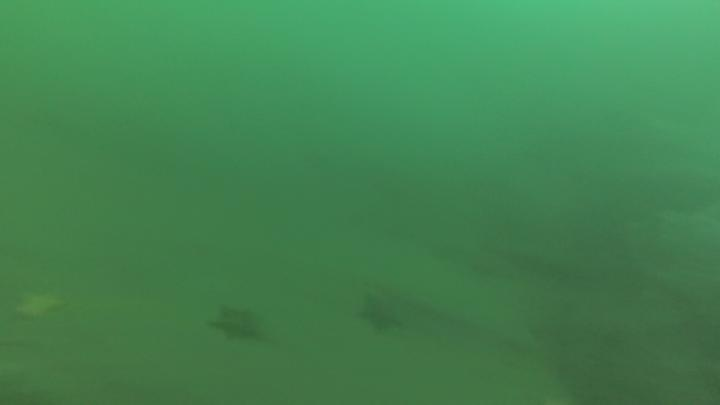starfish: (204, 301, 268, 347), (353, 287, 408, 337), (12, 284, 68, 323)
